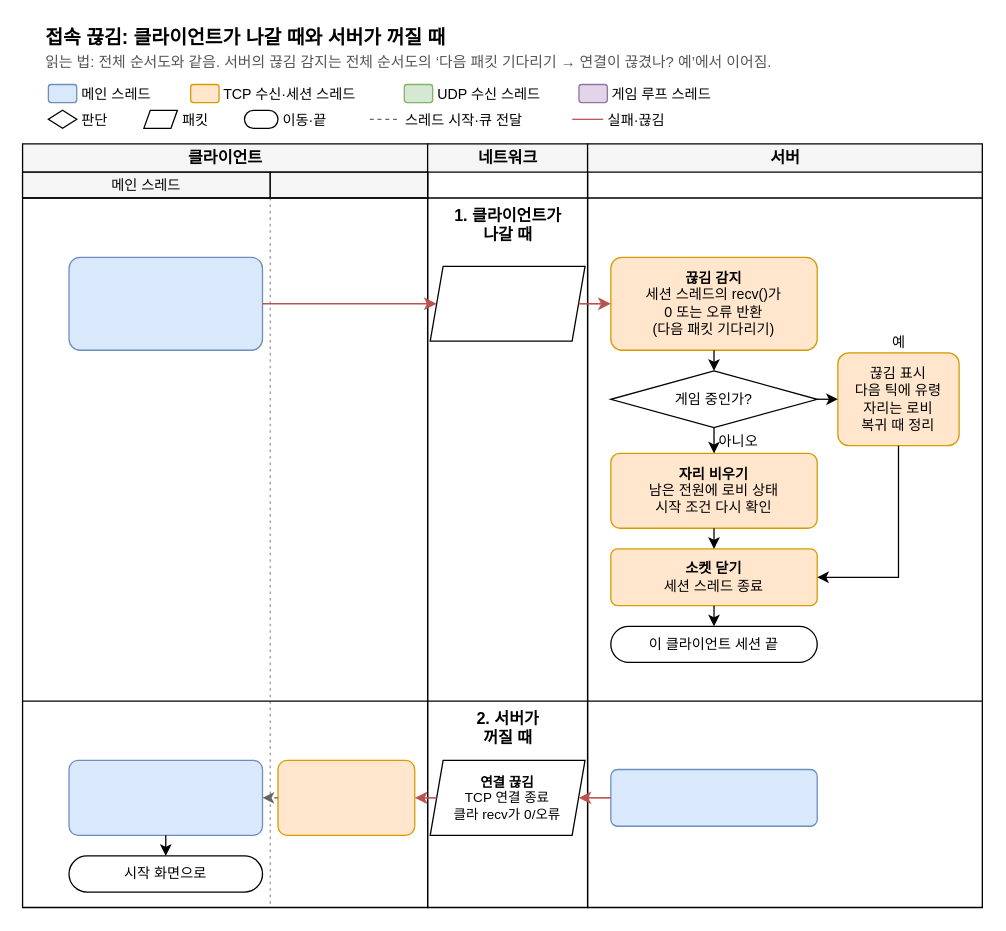
Some shapes in this 1006 by 931 pixel diagram are drawn without their labels. The centre of each missing label's shape, as x and y in pixels:
TCP 받기 recv()가 0 또는 오류: point (346, 797)
끊김 처리 소켓·스레드 정리 끊김 메시지 표시: point (165, 797)
서버 종료 오류·강제 종료 포함: point (713, 797)
수신 스레드: point (348, 184)
연결 끊김 TCP 연결 종료 서버 recv가 0 반환: point (507, 303)
창 닫기 언제든, 어느 화면에서나 closesocket() WSACleanup(): point (165, 303)
